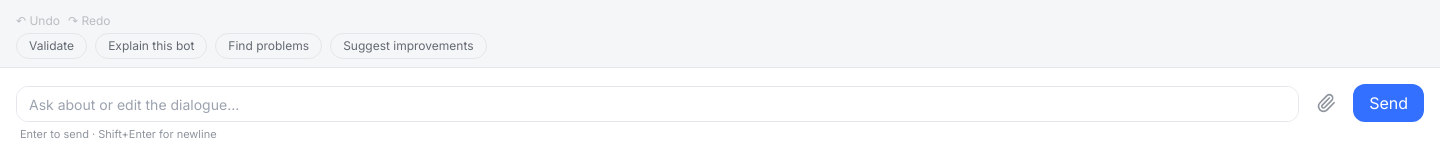
it: ChatPane @-mention › selecting a node inserts "@label (uuid)" into the input
Type "change @Ask" into the text box with placeholder "Ask about or edit the dialogue…" at (658, 104), box [16,86,1299,122]
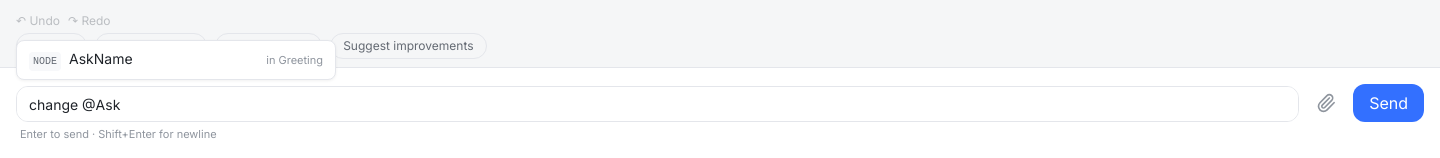
Click the text "AskName" at (101, 58), box [69,48,133,68]
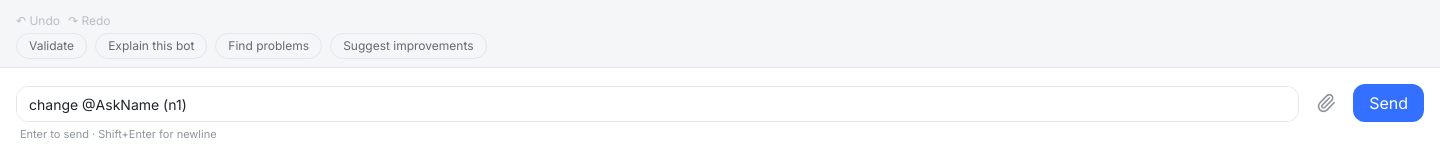
Now the text box with placeholder "Ask about or edit the dialogue…" holds "change @AskName (n1) ", box [16,86,1299,122]
